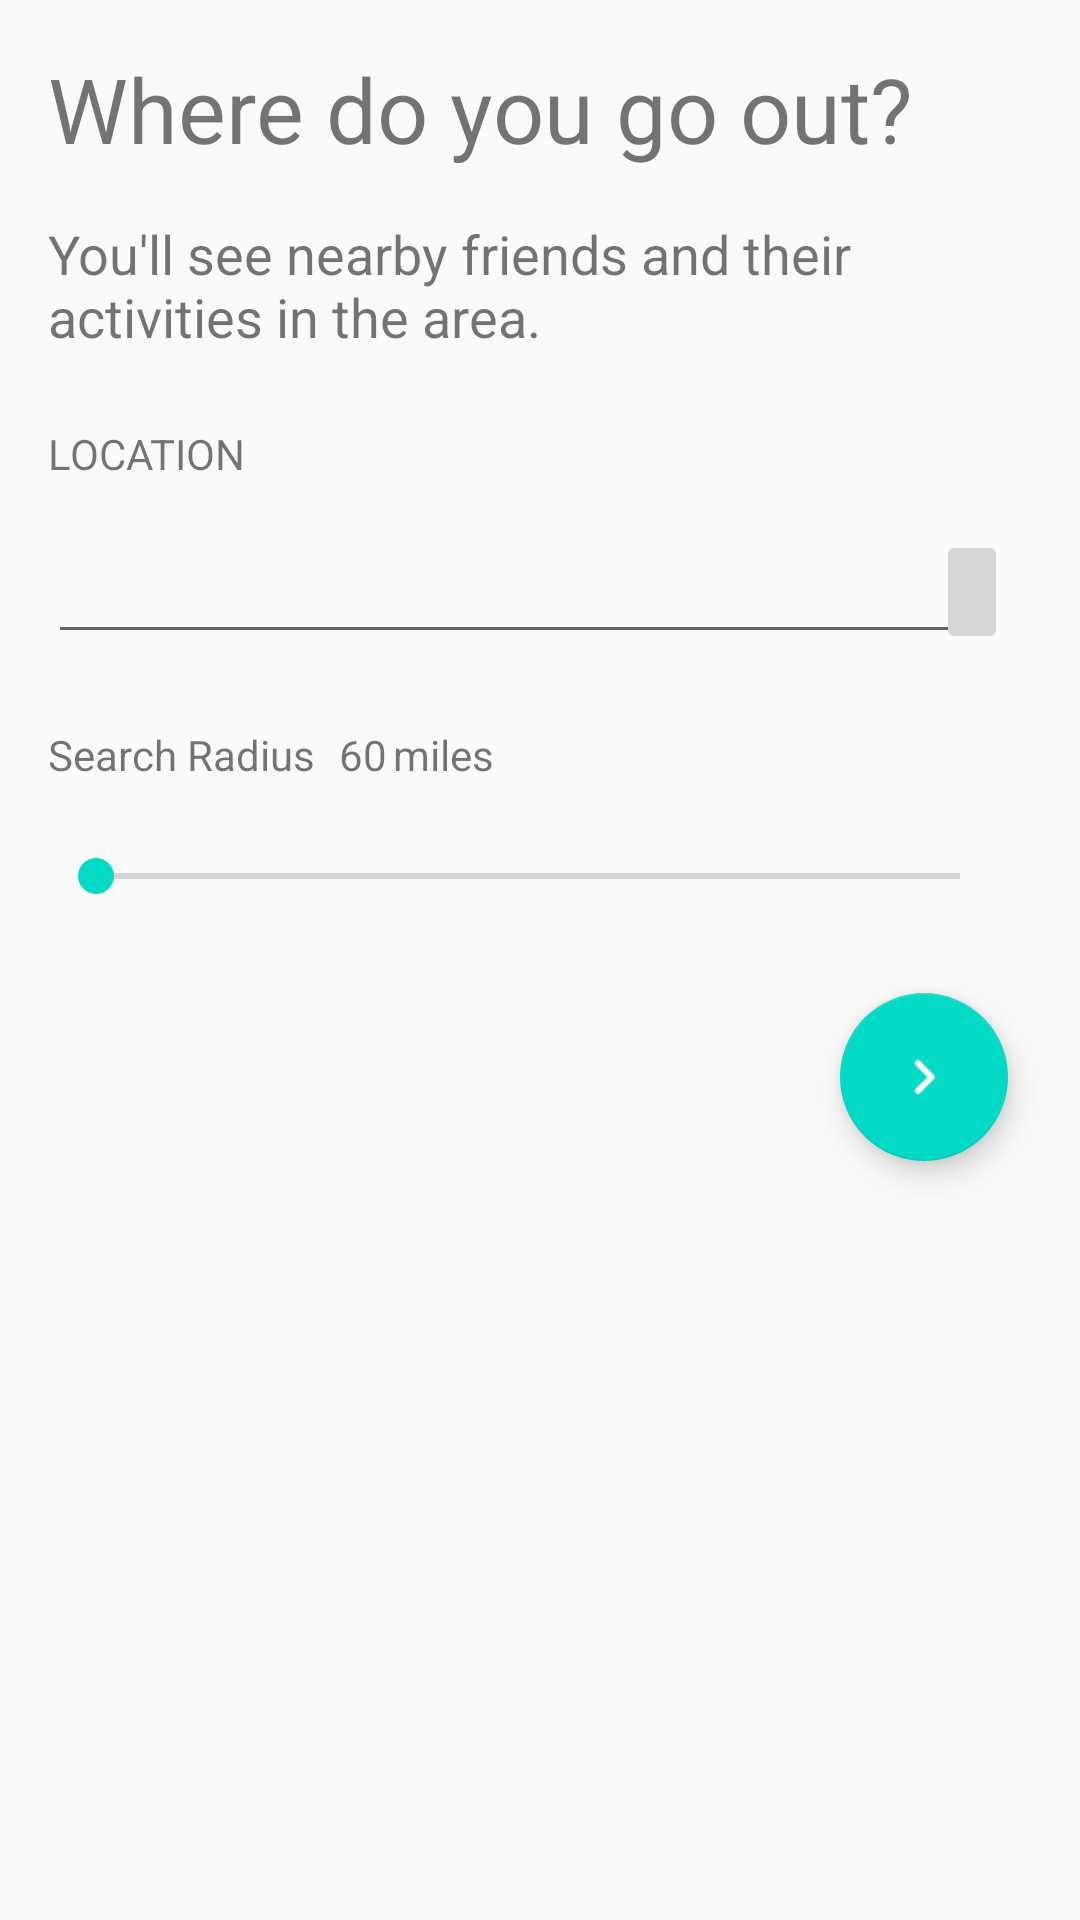

Named icons in this screenshot (1080 × 1920) and their centers, (x,y):
keyboard arrow right: (924,1077)
